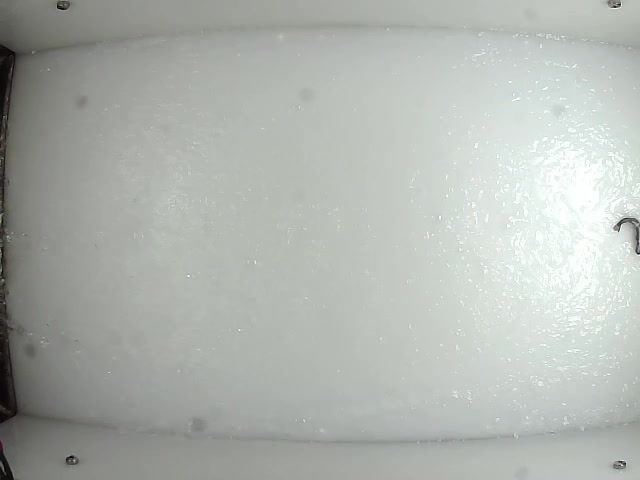fish: (612, 217, 640, 260)
